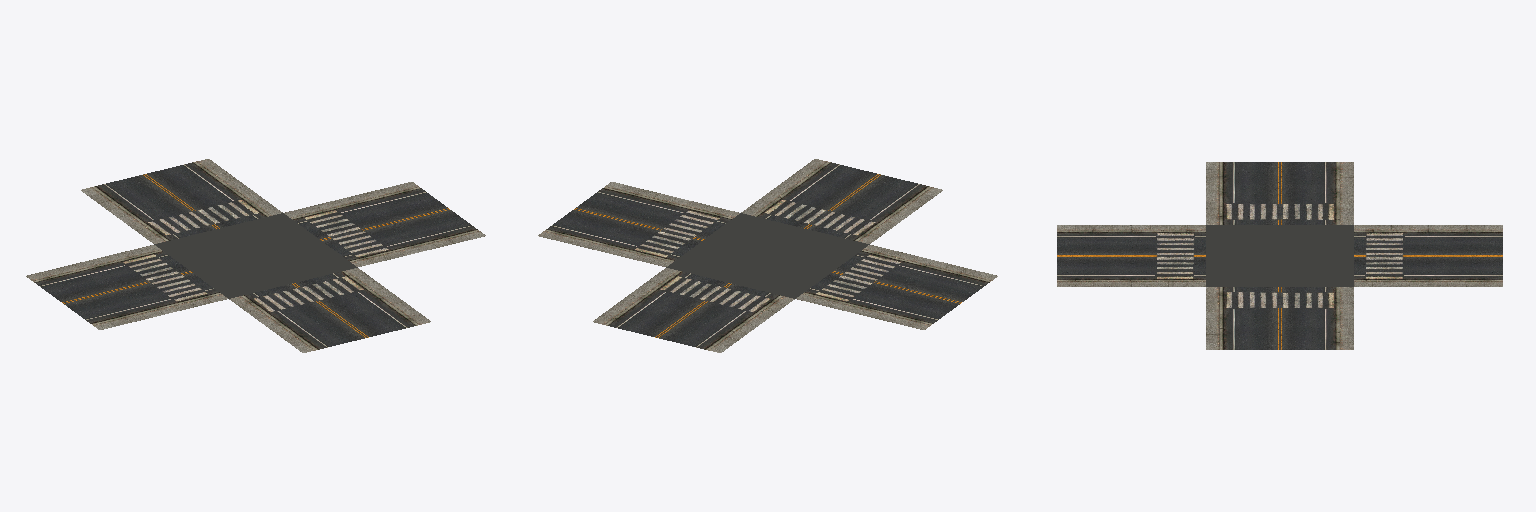
The picture shows the model from 3 angles: view 1: azimuth 30°, elevation 25°; view 2: azimuth 150°, elevation 25°; view 3: azimuth 270°, elevation 25°; orthographic projection.
Visible parts, largest first — view 1: Mesh1 Sphere09_1 skp11CA1 ________SU__1 Model; view 2: Mesh1 Sphere09_1 skp11CA1 ________SU__1 Model; view 3: Mesh1 Sphere09_1 skp11CA1 ________SU__1 Model.
Boxes of the visible parts, x1,y1,x2,y2 form: Mesh1 Sphere09_1 skp11CA1 ________SU__1 Model: [26, 159, 485, 352]; Mesh1 Sphere09_1 skp11CA1 ________SU__1 Model: [538, 159, 997, 352]; Mesh1 Sphere09_1 skp11CA1 ________SU__1 Model: [1057, 162, 1502, 349].
Size of the model in its own units: 76.2 by 0 by 76.2.
Materials: 2 (1 with a texture image).